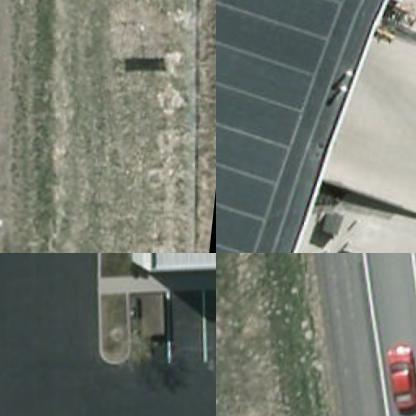car: (382, 338, 415, 403), (335, 242, 401, 252)
